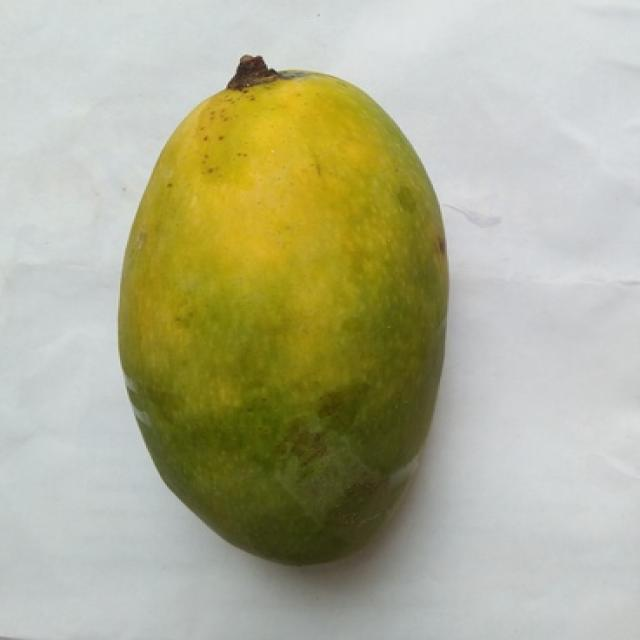Mango: (118, 57, 447, 563)
